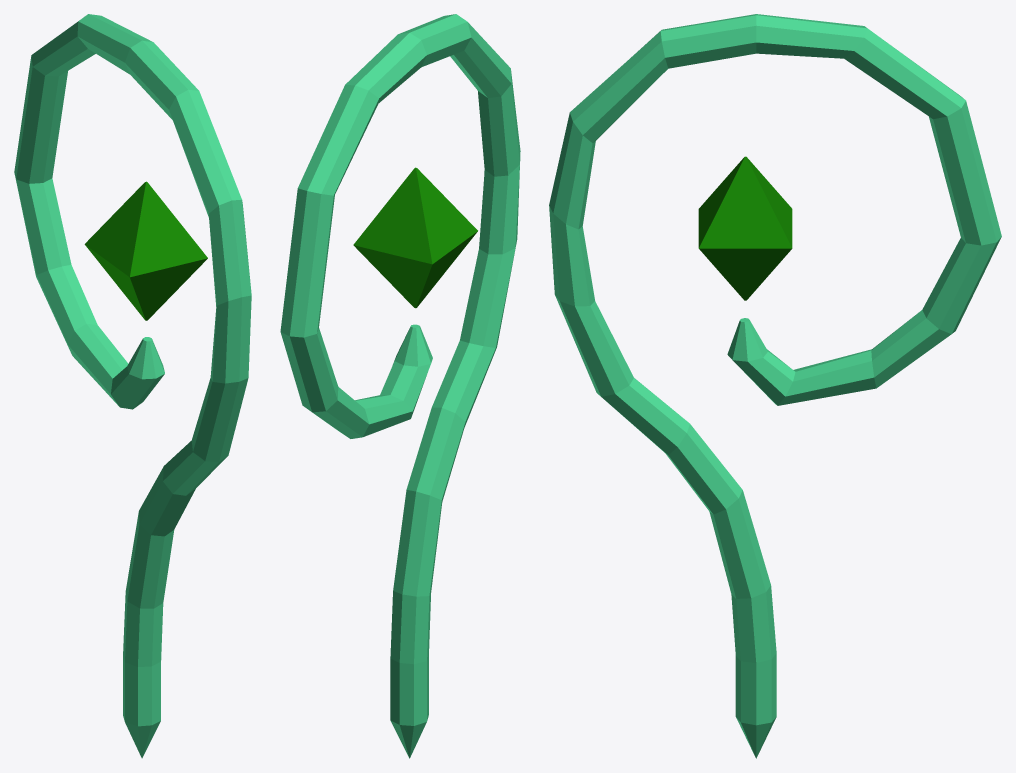
Rendered from Torre Cristal.fbx.
The picture shows the model from 3 angles, left to right: view 1: azimuth 30°, elevation 25°; view 2: azimuth 150°, elevation 25°; view 3: azimuth 270°, elevation 25°; orthographic projection. The views are drawn at different scales.
Visible parts, largest first — view 1: Cube, Cube.001; view 2: Cube, Cube.001; view 3: Cube, Cube.001.
Part boxes in pixels (left/top/right/bottom): Cube: left=14, top=14, right=251, bottom=758; Cube.001: left=84, top=181, right=207, bottom=320; Cube: left=280, top=14, right=520, bottom=758; Cube.001: left=353, top=167, right=477, bottom=308; Cube: left=549, top=14, right=1001, bottom=758; Cube.001: left=698, top=156, right=792, bottom=300.
Size of the model in its own units: 201 by 41.61 by 364.
